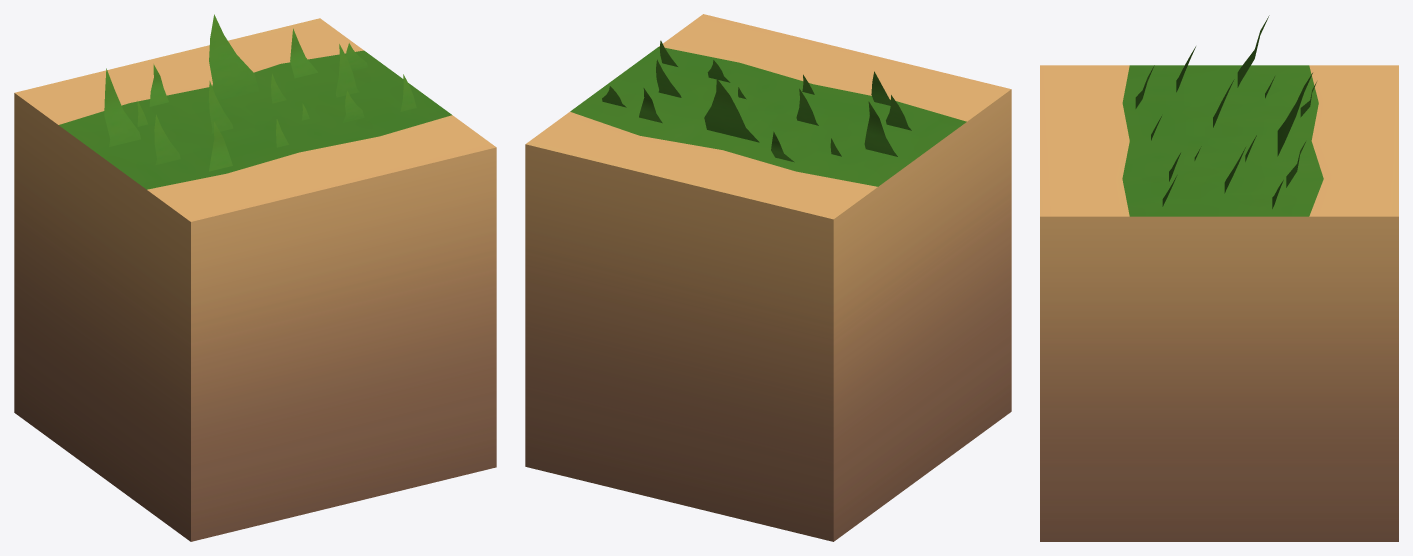
Rendered from twosideb d tile.fbx.
The picture shows the model from 3 angles, left to right: view 1: azimuth 30°, elevation 25°; view 2: azimuth 150°, elevation 25°; view 3: azimuth 270°, elevation 25°; orthographic projection.
Visible parts, largest first — view 1: tsb_d_tile, tsb_d_grass; view 2: tsb_d_tile, tsb_d_grass; view 3: tsb_d_tile, tsb_d_grass.
Part boxes in pixels (bbox=[...]): tsb_d_tile: bbox=[14, 18, 496, 541]; tsb_d_grass: bbox=[104, 14, 416, 171]; tsb_d_tile: bbox=[525, 14, 1011, 541]; tsb_d_grass: bbox=[602, 40, 911, 162]; tsb_d_tile: bbox=[1040, 65, 1398, 541]; tsb_d_grass: bbox=[1135, 15, 1316, 208].
Size of the model in its own units: 10 by 12.22 by 10.
